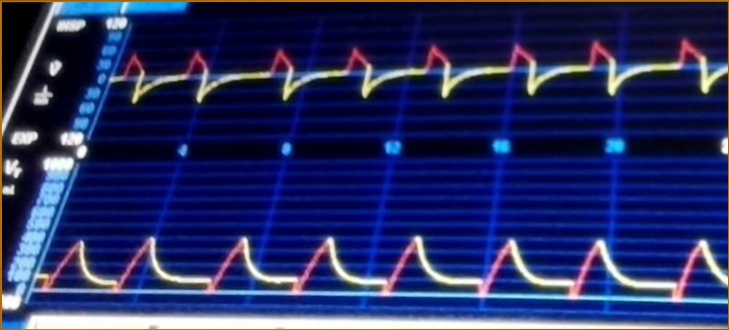Flow: (120, 27, 725, 136)
Leakage Volume: (53, 204, 726, 309)
